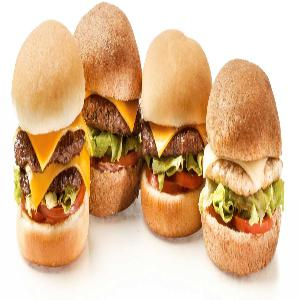cheeseburger_475cal: (8, 19, 96, 270), (206, 49, 286, 279), (72, 1, 143, 221), (145, 13, 204, 250)
